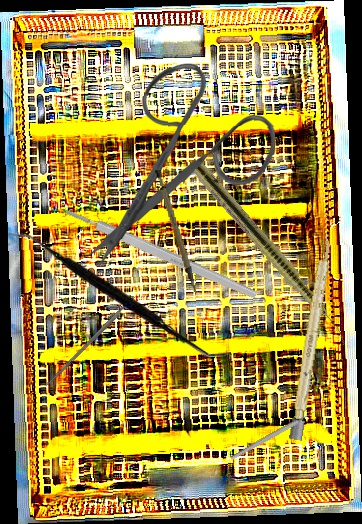Handpiece: (186, 158, 355, 348)
Iris Scissors: (86, 59, 278, 277)
Scalpel Handle: (63, 205, 259, 301), (288, 234, 335, 441), (44, 295, 137, 388), (153, 166, 198, 299)
Spatula Surgical: (8, 230, 231, 357)
Surgical Spoon: (229, 402, 329, 462)
